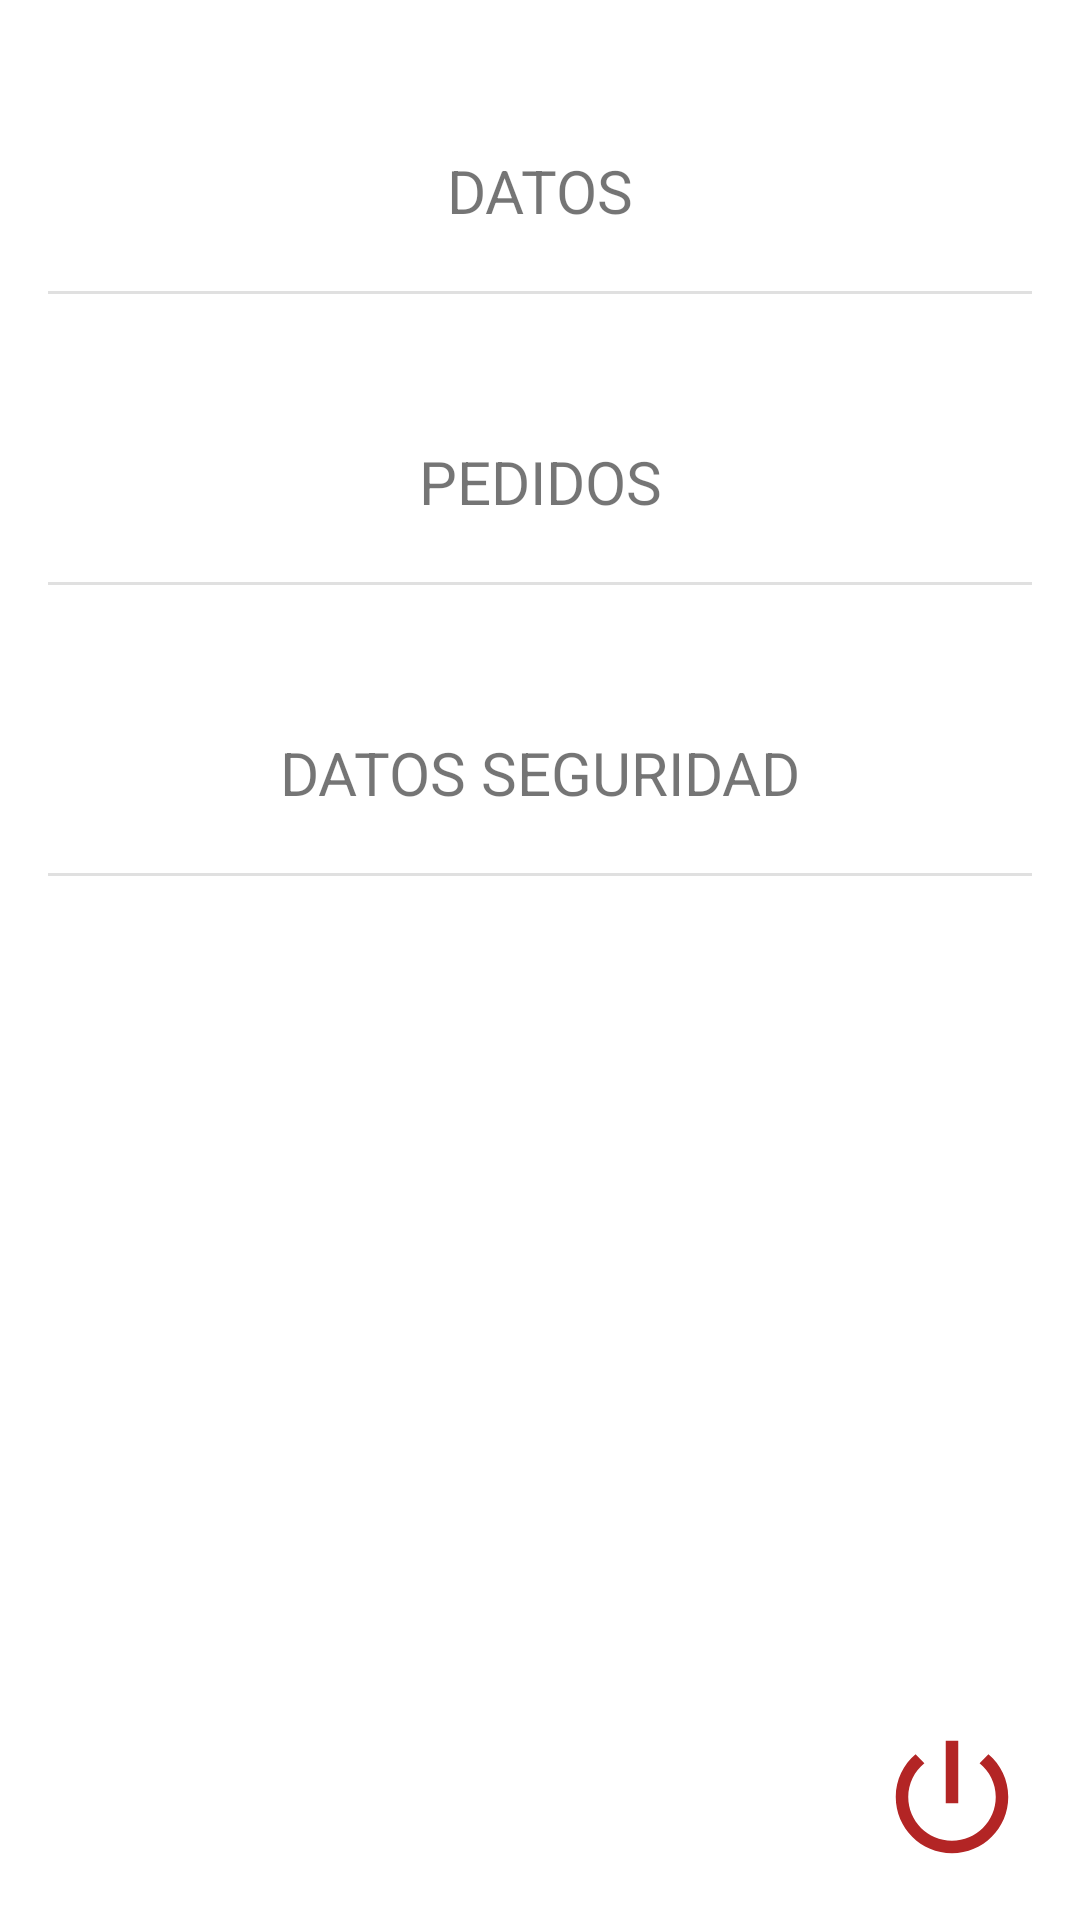

Point at icon controls on the screen. Image size 1080 x 1920, points as (x=x, y=y).
power settings: (x=952, y=1797)
